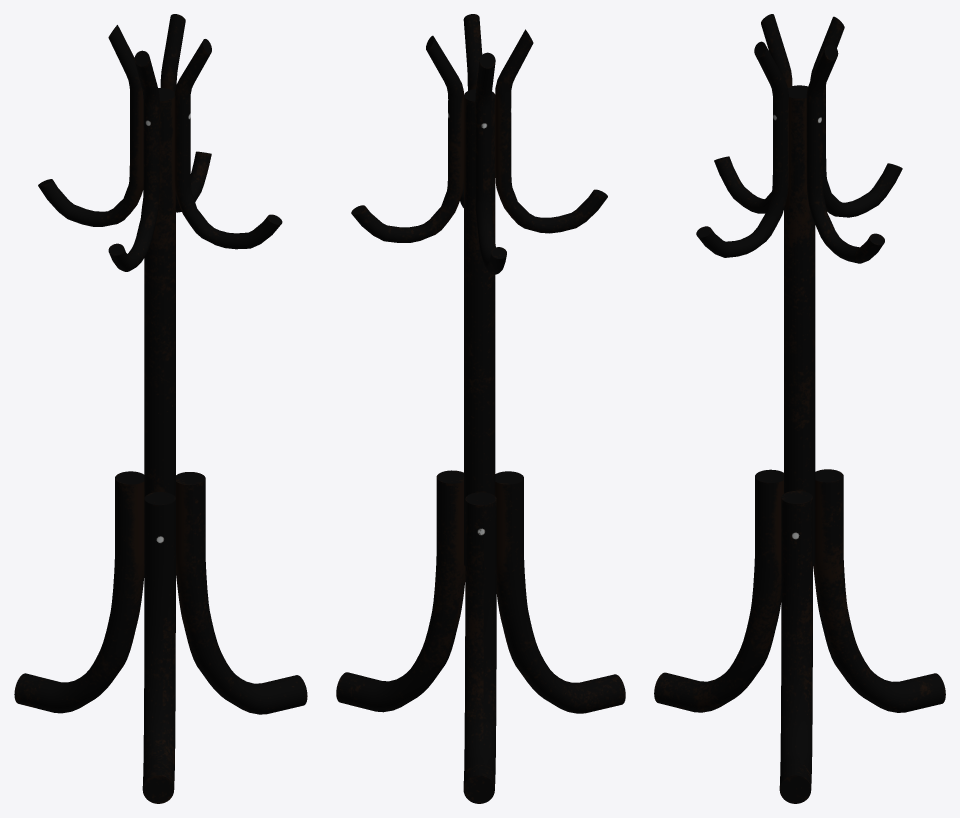
File: CoatHanger.fbx
3 renders of one model, left to right at view 1: azimuth 30°, elevation 25°; view 2: azimuth 150°, elevation 25°; view 3: azimuth 270°, elevation 25°, orthographic.
Parts seen in each view (by area): view 1: CoatHanger; view 2: CoatHanger; view 3: CoatHanger.
Part boxes in pixels (box(x1,y1,x2,y2)): CoatHanger: box(14, 14, 307, 803); CoatHanger: box(336, 14, 625, 803); CoatHanger: box(654, 14, 945, 803).
Bounding box in the file's own units: 0.7491 × 0.8312 × 2.22.
